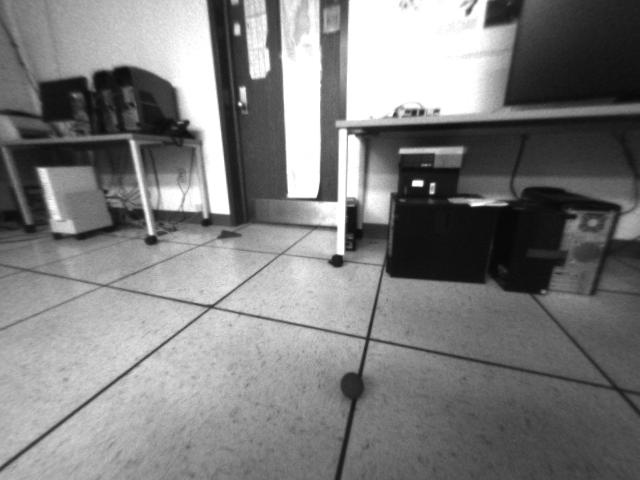dogtoy: (333, 366, 373, 405)
